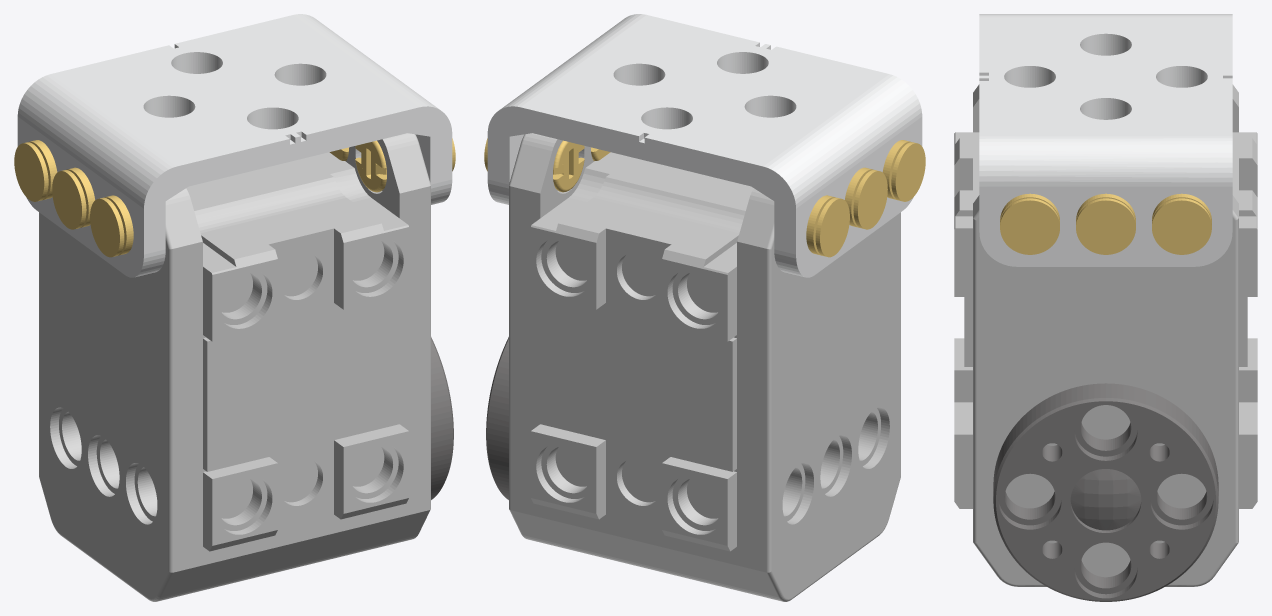
File: section_2.dae
3 renders of one model, left to right at view 1: azimuth 30°, elevation 25°; view 2: azimuth 150°, elevation 25°; view 3: azimuth 270°, elevation 25°, orthographic.
Visible parts, largest first — view 1: body_001, Untitled_021, horn_001, insert_003, insert_002, insert_004, base_005, base_003; view 2: body_001, Untitled_021, horn_001, insert_002, insert_003, insert_004, base_001, base_002; view 3: body_001, Untitled_021, horn_001, insert_001, insert_005, insert_006.
Boxes of the visible parts, x1,y1,x2,y2 form: body_001: (39, 133, 430, 601); Untitled_021: (17, 14, 452, 277); horn_001: (431, 337, 453, 499); insert_003: (90, 197, 124, 257); insert_002: (14, 142, 48, 201); insert_004: (52, 170, 86, 229); base_005: (355, 140, 386, 192); base_003: (104, 195, 133, 255); body_001: (509, 133, 900, 601); Untitled_021: (487, 14, 922, 277); horn_001: (486, 337, 508, 499); insert_002: (815, 197, 849, 257); insert_003: (891, 142, 925, 201); insert_004: (853, 170, 887, 229); base_001: (553, 140, 584, 192); base_002: (806, 195, 835, 255); body_001: (954, 84, 1257, 586); Untitled_021: (979, 14, 1232, 266); horn_001: (993, 383, 1218, 601); insert_001: (1152, 198, 1211, 254); insert_005: (1000, 198, 1059, 254); insert_006: (1076, 198, 1135, 254).
Bounding box in the file's own units: 0.0307 × 0.024 × 0.039.
